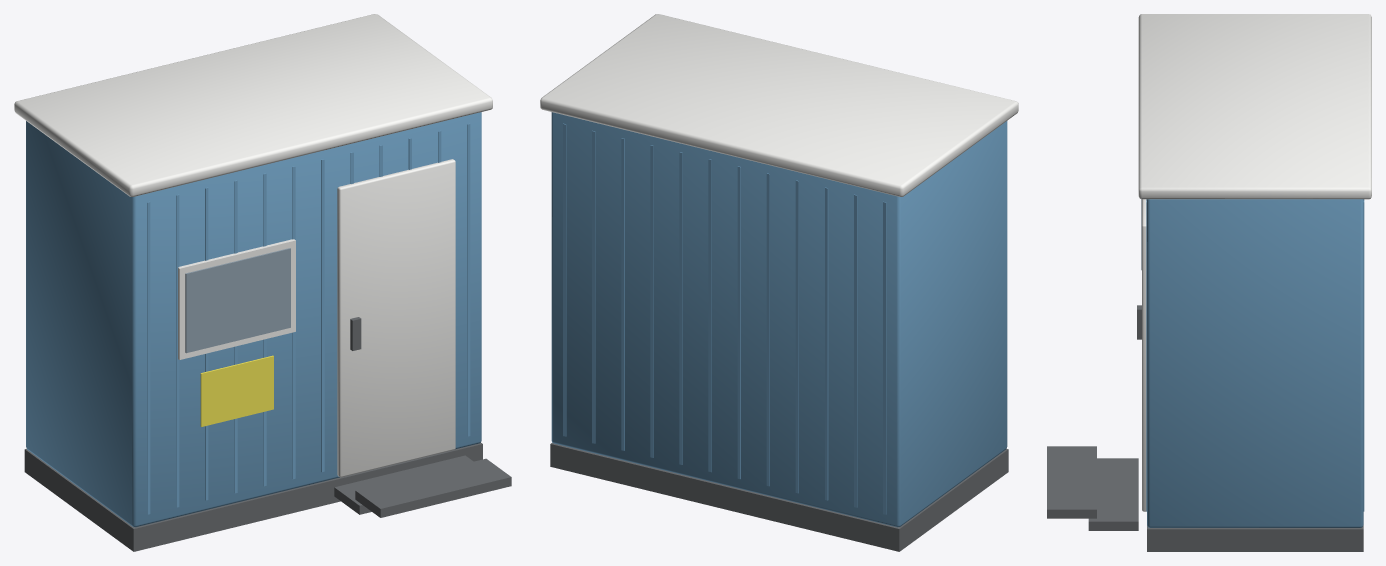
The model's file is site_cabin.glb.
3 views of the same model, side by side, from view 1: azimuth 30°, elevation 25°; view 2: azimuth 150°, elevation 25°; view 3: azimuth 270°, elevation 25° (orthographic).
Visible parts, largest first — view 1: Cube.001, Cube.014, Cube.015, Cube, Cube.018, Cube.020, Cube.021, Cube.017, Cube.019, Cube.002, Cube.008, Cube.013 (+5 smaller); view 2: Cube.001, Cube.014, Cube, Cube.002, Cube.003, Cube.008, Cube.012, Cube.013, Cube.004, Cube.005, Cube.006, Cube.007 (+3 smaller); view 3: Cube.001, Cube.014, Cube, Cube.020, Cube.019, Cube.015, Cube.013.
Part boxes in pixels (x1=…): Cube.001: x1=26, y1=112, x2=481, y2=527; Cube.014: x1=14, y1=14, x2=492, y2=196; Cube.015: x1=337, y1=159, x2=455, y2=477; Cube: x1=24, y1=442, x2=482, y2=551; Cube.018: x1=185, y1=248, x2=290, y2=353; Cube.020: x1=355, y1=458, x2=511, y2=517; Cube.021: x1=200, y1=355, x2=273, y2=426; Cube.017: x1=178, y1=239, x2=295, y2=359; Cube.019: x1=334, y1=455, x2=473, y2=514; Cube.002: x1=147, y1=201, x2=150, y2=514; Cube.008: x1=321, y1=159, x2=324, y2=471; Cube.013: x1=467, y1=123, x2=470, y2=436; Cube.001: x1=551, y1=112, x2=1007, y2=527; Cube.014: x1=540, y1=14, x2=1018, y2=196; Cube: x1=550, y1=442, x2=1008, y2=551; Cube.002: x1=883, y1=201, x2=886, y2=514; Cube.003: x1=854, y1=194, x2=857, y2=507; Cube.008: x1=708, y1=159, x2=711, y2=472; Cube.012: x1=592, y1=130, x2=595, y2=443; Cube.013: x1=563, y1=123, x2=566, y2=436; Cube.004: x1=825, y1=187, x2=828, y2=500; Cube.005: x1=795, y1=180, x2=798, y2=493; Cube.006: x1=766, y1=173, x2=769, y2=486; Cube.007: x1=737, y1=166, x2=740, y2=479; Cube.001: x1=1147, y1=199, x2=1363, y2=527; Cube.014: x1=1138, y1=14, x2=1371, y2=199; Cube: x1=1147, y1=525, x2=1363, y2=551; Cube.020: x1=1047, y1=446, x2=1096, y2=518; Cube.019: x1=1088, y1=458, x2=1138, y2=530; Cube.015: x1=1142, y1=199, x2=1146, y2=511; Cube.013: x1=1146, y1=200, x2=1364, y2=511.
Size of the model in its own units: 2.5 by 2.43 by 1.95.
